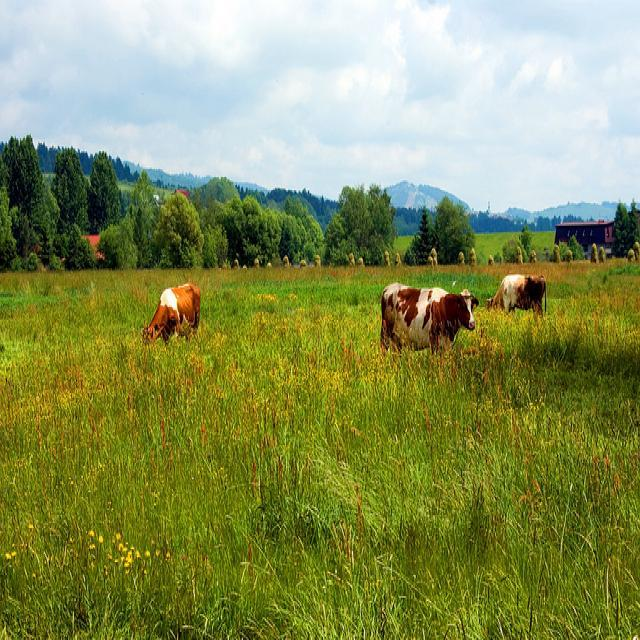cow: (378, 279, 478, 351), (142, 278, 201, 346), (483, 271, 546, 320)
